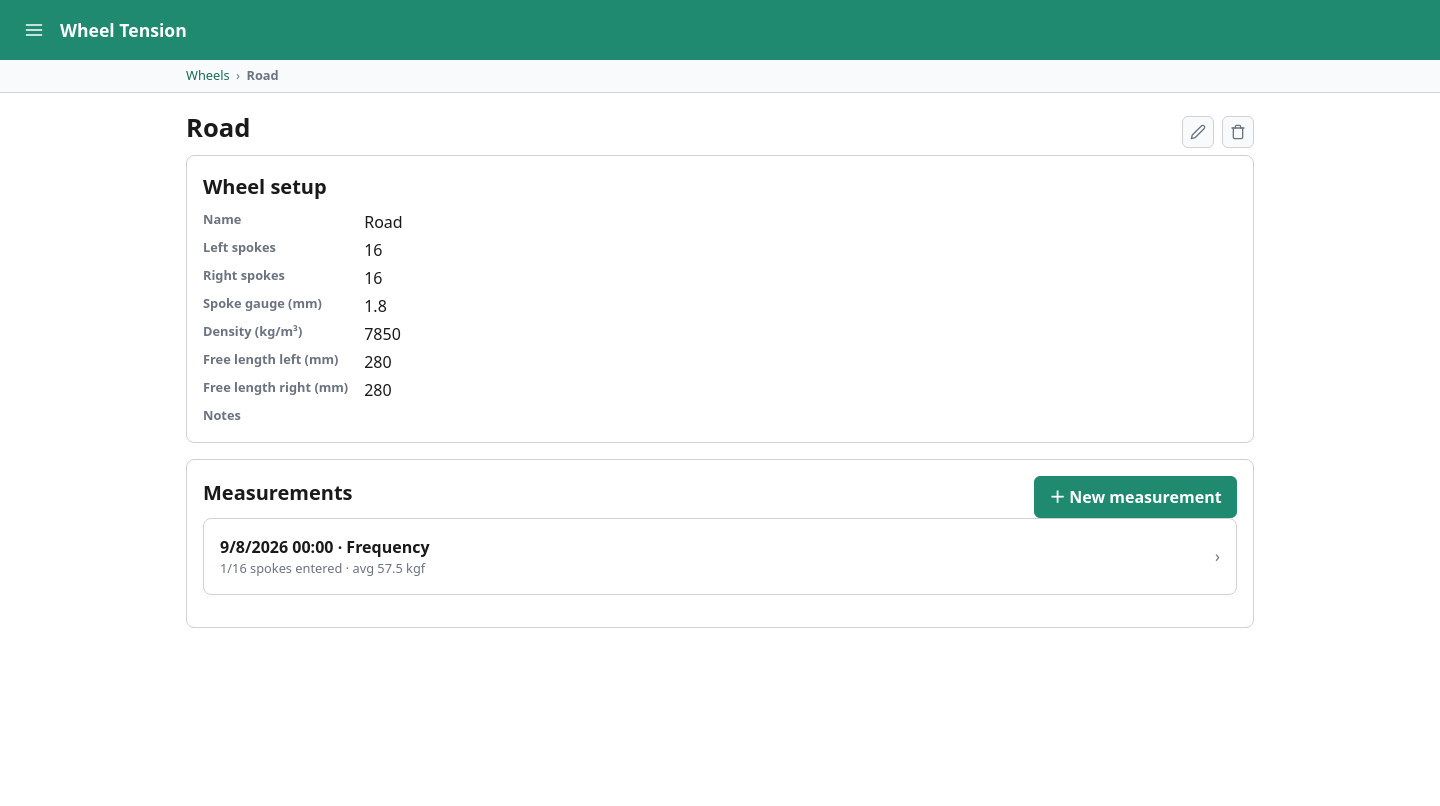
WheelDetailPage › does not create a measurement when the new measurement edit is cancelled
Click the button "＋ New measurement": (1135, 496) [1034, 476, 1237, 518]
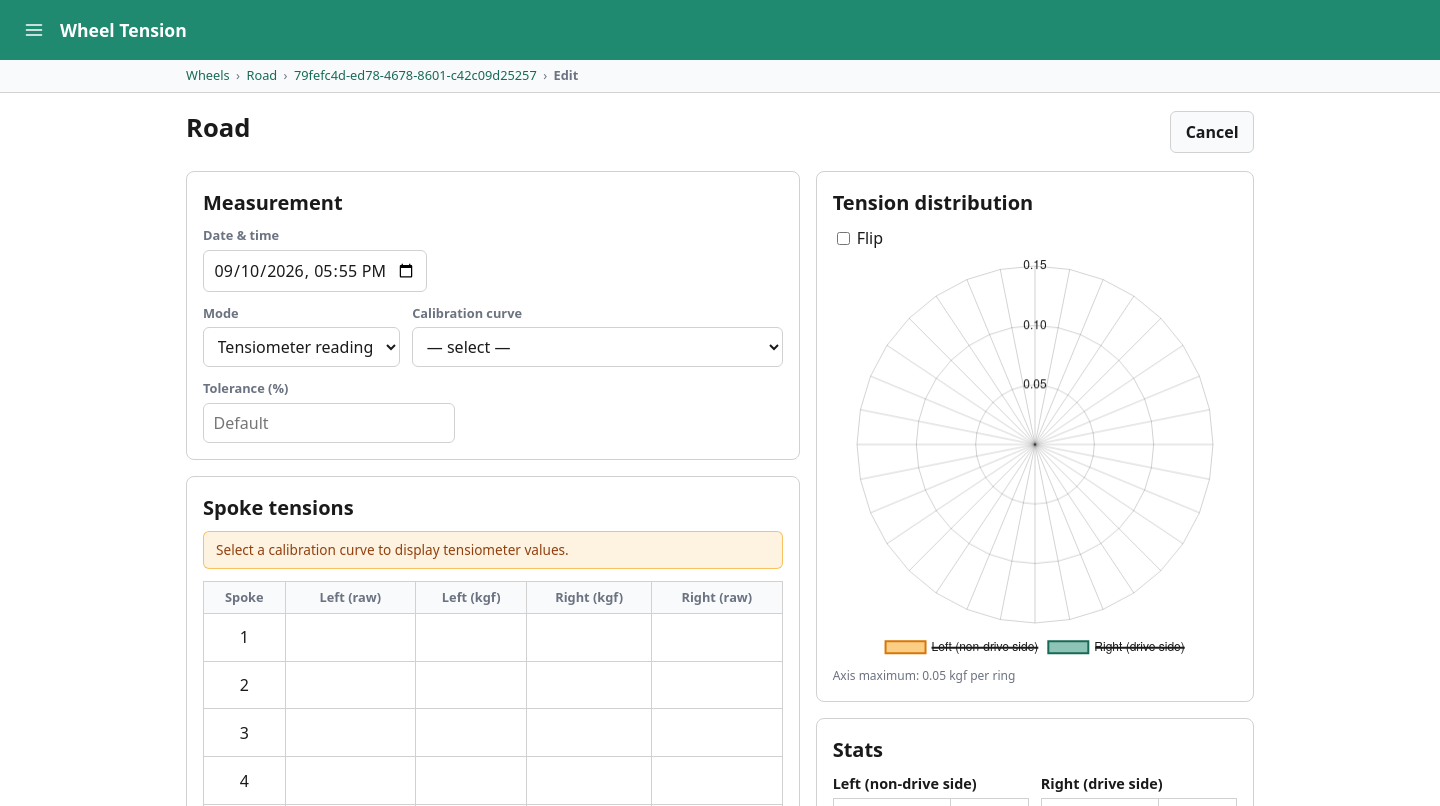
Click the button "Cancel": (1212, 132) [1170, 111, 1254, 153]
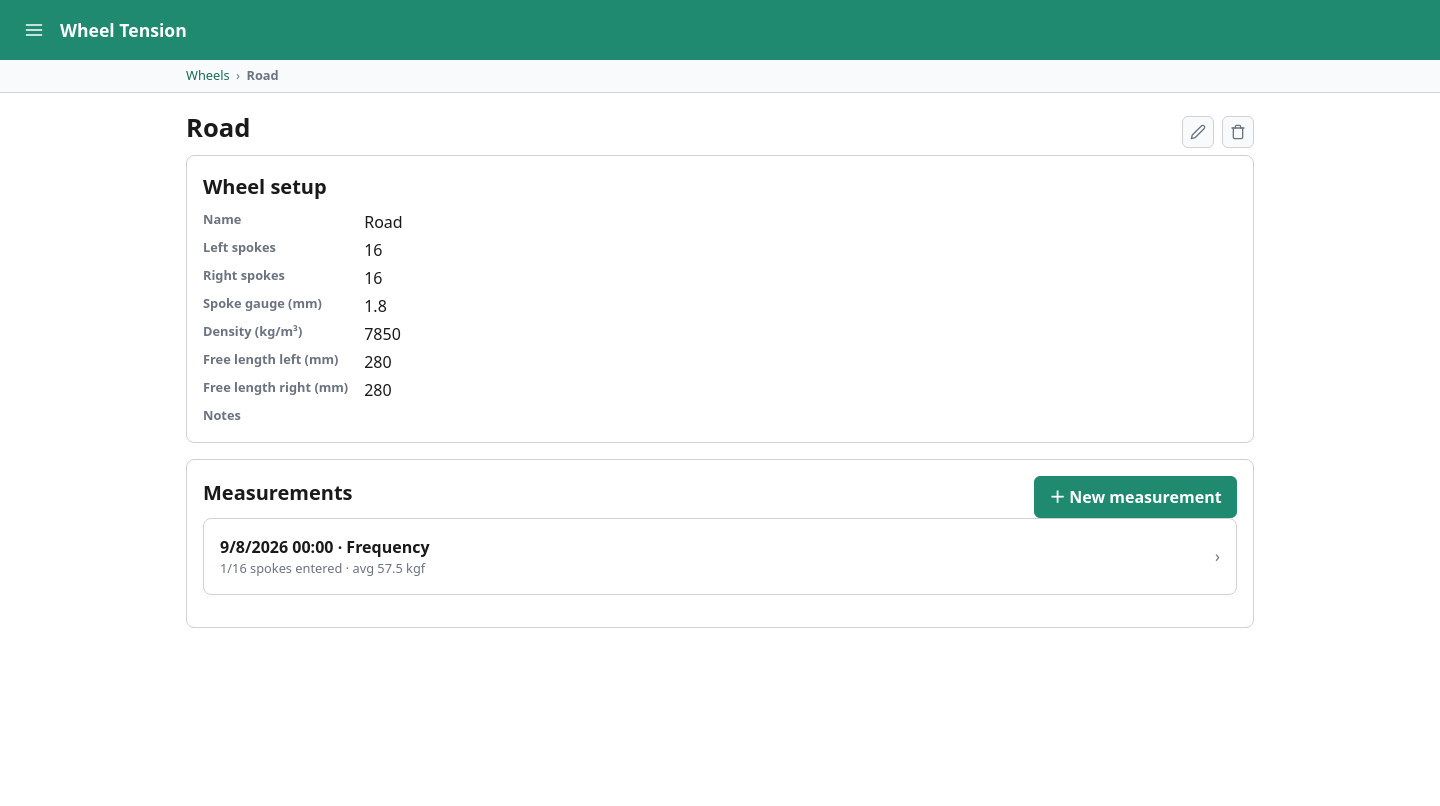
Result: the heading "Measurements" is shown at [203, 478, 353, 508]
Result: the text "9/8/2026 00:00 · Frequency" is shown once at [220, 534, 430, 558]
